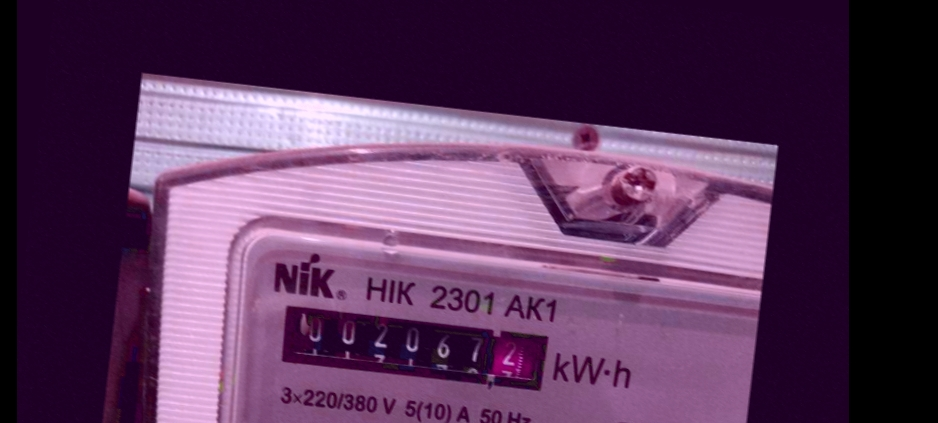0: (305, 313, 326, 344), (402, 322, 423, 352), (339, 315, 359, 346)
2: (500, 337, 521, 367), (372, 319, 392, 350)
6: (434, 329, 455, 360)
7: (467, 333, 486, 364)
screen: (265, 290, 565, 405)
